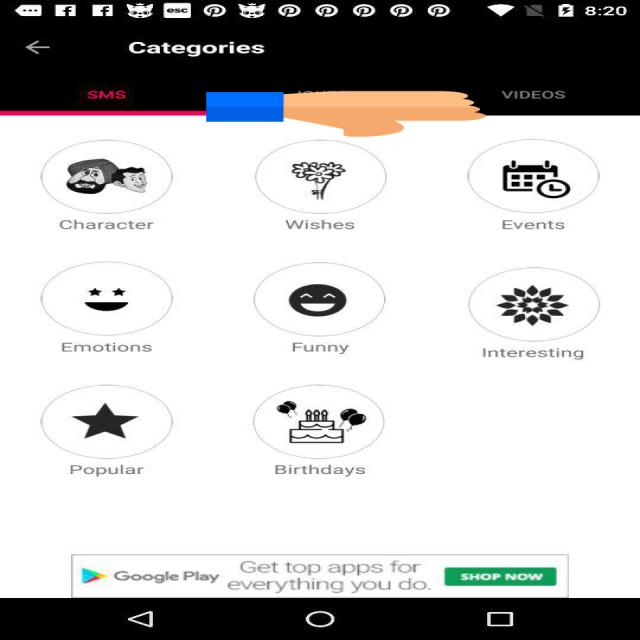obstruction: (206, 90, 486, 138)
